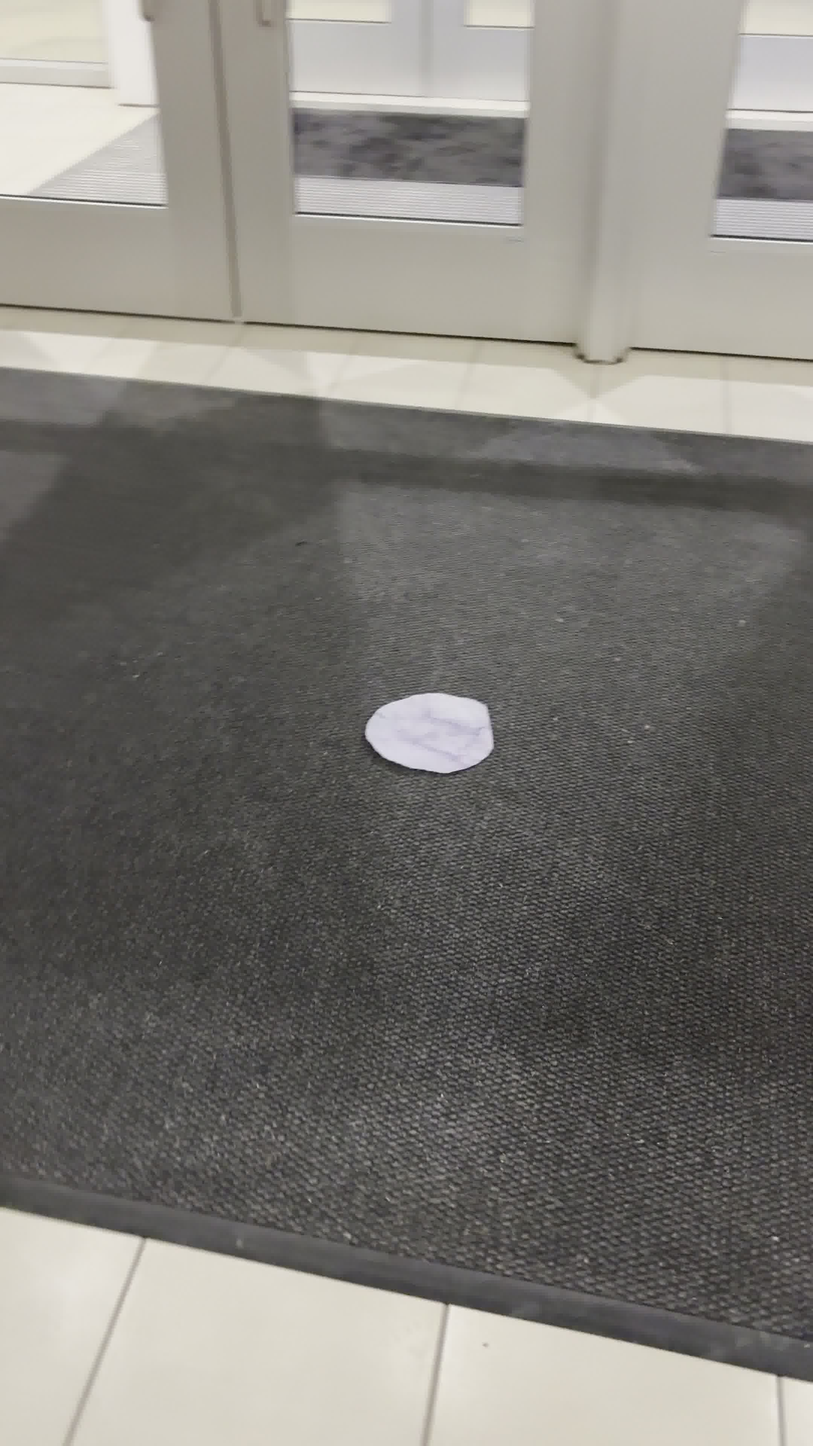Target: (365, 692, 494, 774)
